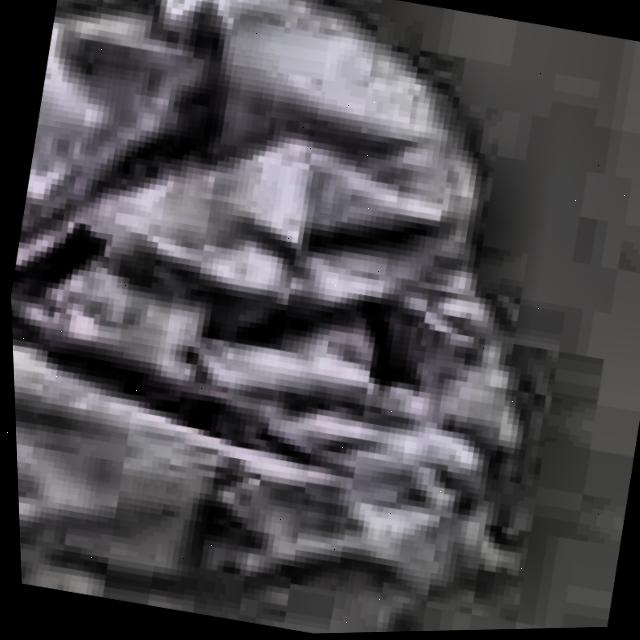paper: (0, 0, 619, 640)
